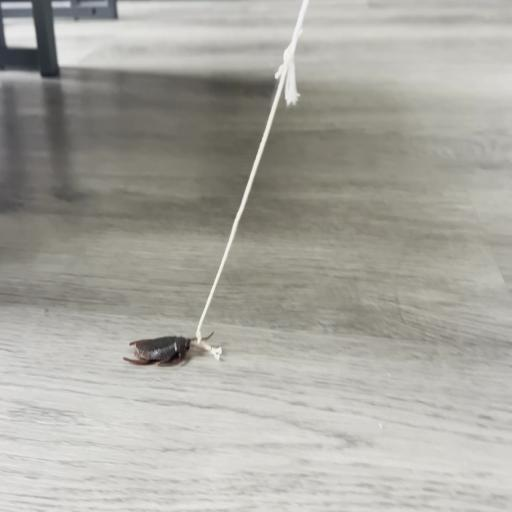cockroach: (124, 332, 214, 366)
